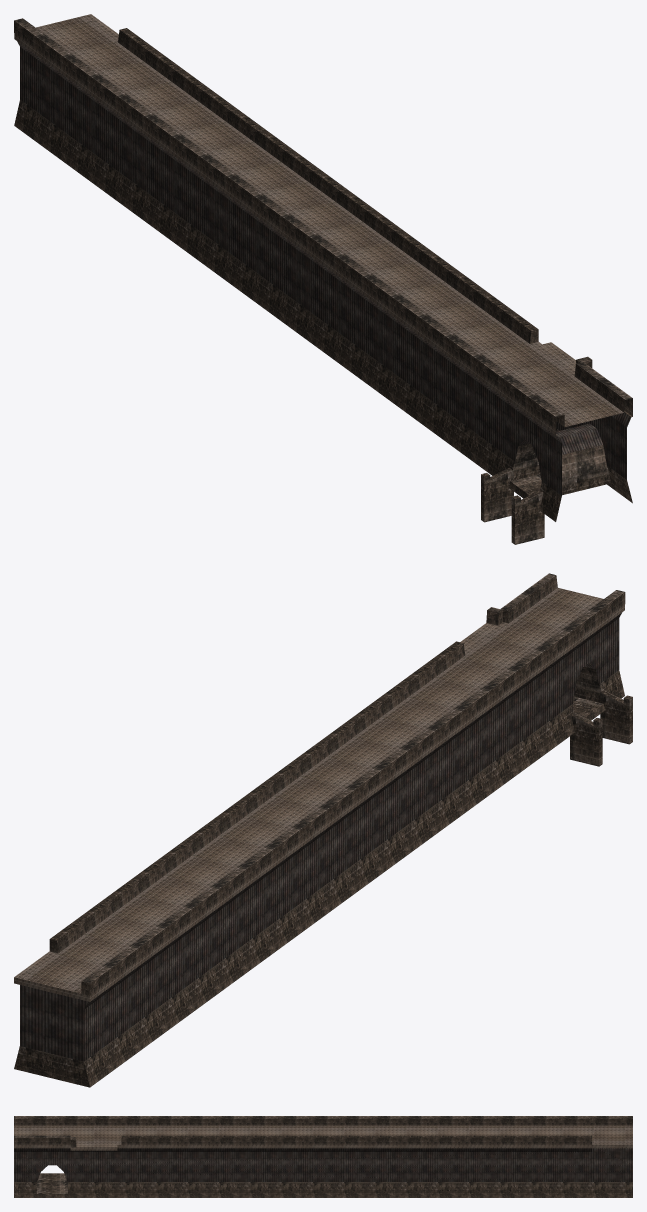
Rendered from components_city_wallsc1.glb.
3 views of the same model, one above another, from view 1: azimuth 30°, elevation 25°; view 2: azimuth 150°, elevation 25°; view 3: azimuth 270°, elevation 25° (orthographic). The views are drawn at different scales.
Visible parts, largest first — view 1: city_wallsc1; view 2: city_wallsc1; view 3: city_wallsc1.
Part boxes in pixels (x1,y1,x2,y2): city_wallsc1: [14, 14, 632, 544]; city_wallsc1: [14, 573, 632, 1087]; city_wallsc1: [14, 1116, 632, 1197].
Size of the model in its own units: 18.62 by 21.62 by 158.
3 materials, 3 textured.
